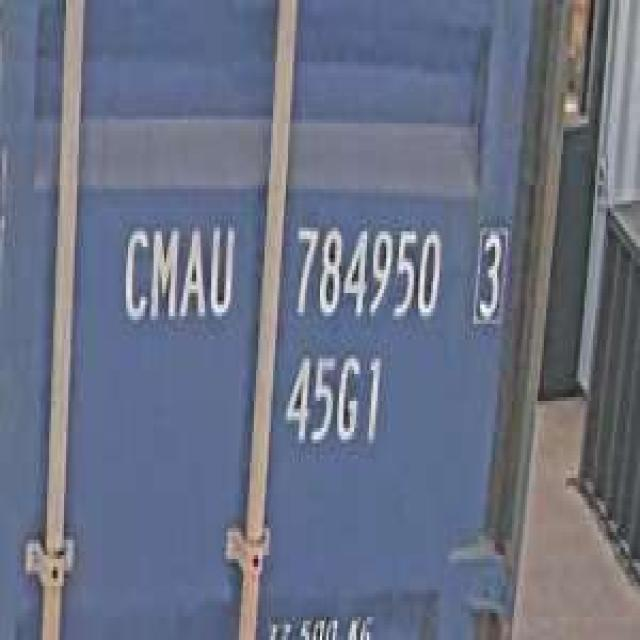dv: (467, 212, 510, 332)
owner: (117, 212, 237, 335)
serial: (286, 212, 446, 332)
size: (280, 339, 386, 455)
